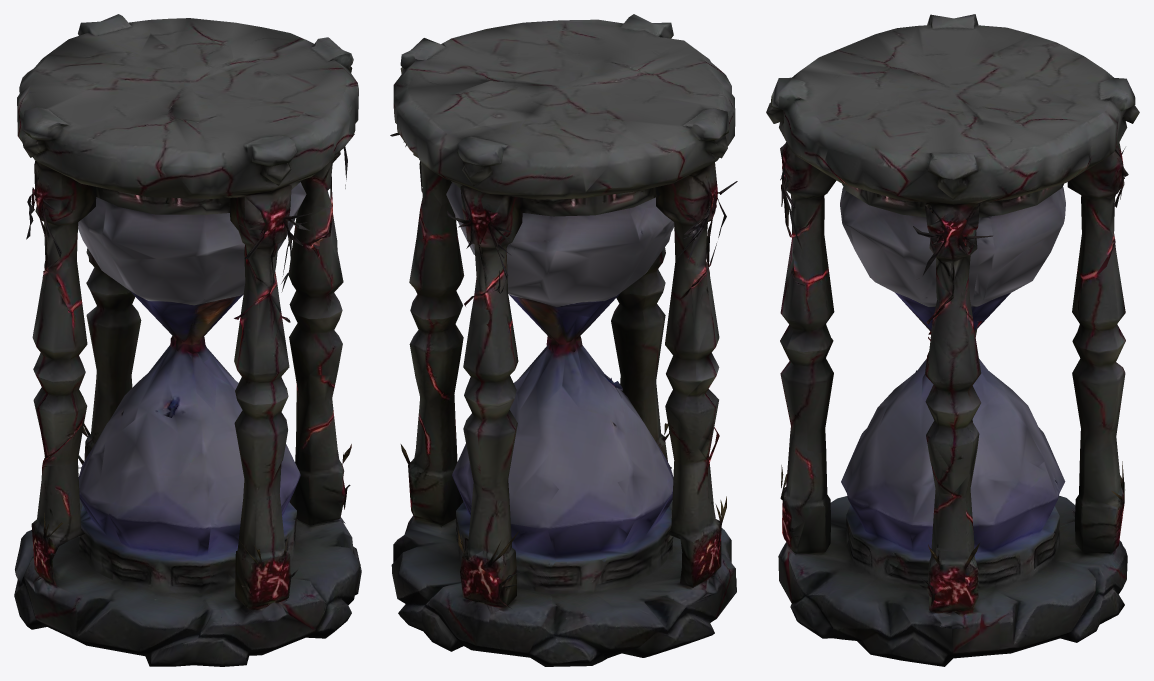
File: ss_wangshen.glb
3 views of the same model, side by side, from view 1: azimuth 30°, elevation 25°; view 2: azimuth 150°, elevation 25°; view 3: azimuth 270°, elevation 25° (orthographic).
Visible parts, largest first — view 1: tripo_node_7ab0f71d-0e24-443e-9c37-06cf5b2137c1; view 2: tripo_node_7ab0f71d-0e24-443e-9c37-06cf5b2137c1; view 3: tripo_node_7ab0f71d-0e24-443e-9c37-06cf5b2137c1.
Boxes of the visible parts, x1,y1,x2,y2 form: tripo_node_7ab0f71d-0e24-443e-9c37-06cf5b2137c1: [14, 14, 361, 666]; tripo_node_7ab0f71d-0e24-443e-9c37-06cf5b2137c1: [390, 14, 737, 666]; tripo_node_7ab0f71d-0e24-443e-9c37-06cf5b2137c1: [766, 14, 1139, 666].
Bounding box in the file's own units: 0.666 × 1 × 0.6656.
1 material, 1 textured.
